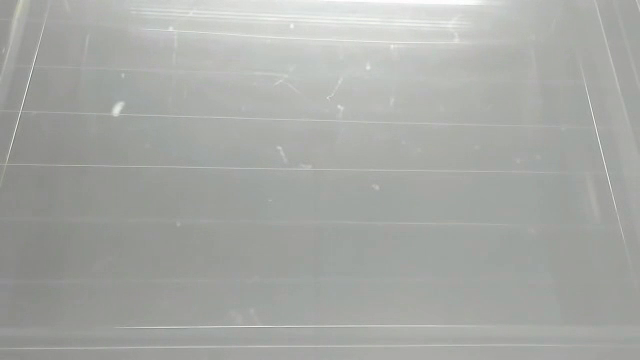alpha: (109, 98, 129, 122)
